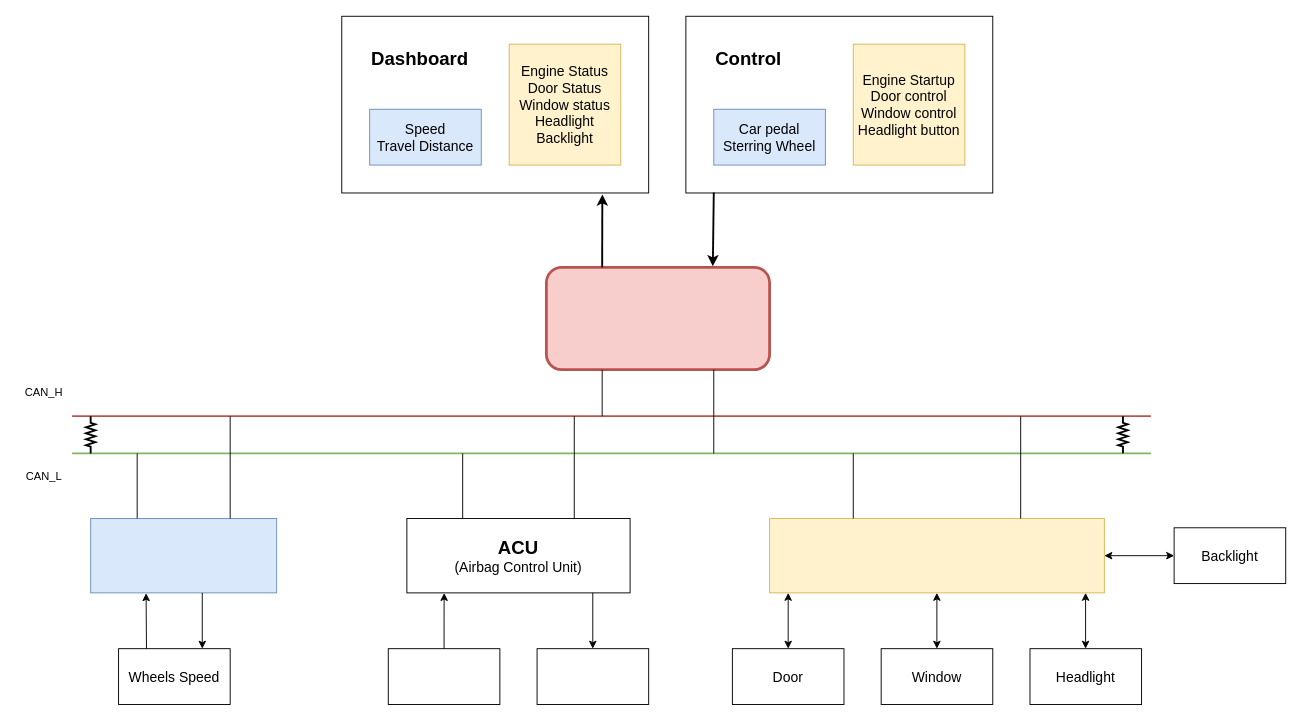
This 1302x721 diagram has some shape labels left out. Each missing label, with the centre of its shape:
"Accelerometer" goes at point 443,676.
"Airbag" goes at point 592,676.
"BCM (Body Control Module)" goes at point 936,555.
"ECU (Engine Control Unit)" goes at point 183,555.
"Main ECU" goes at point 658,318.
